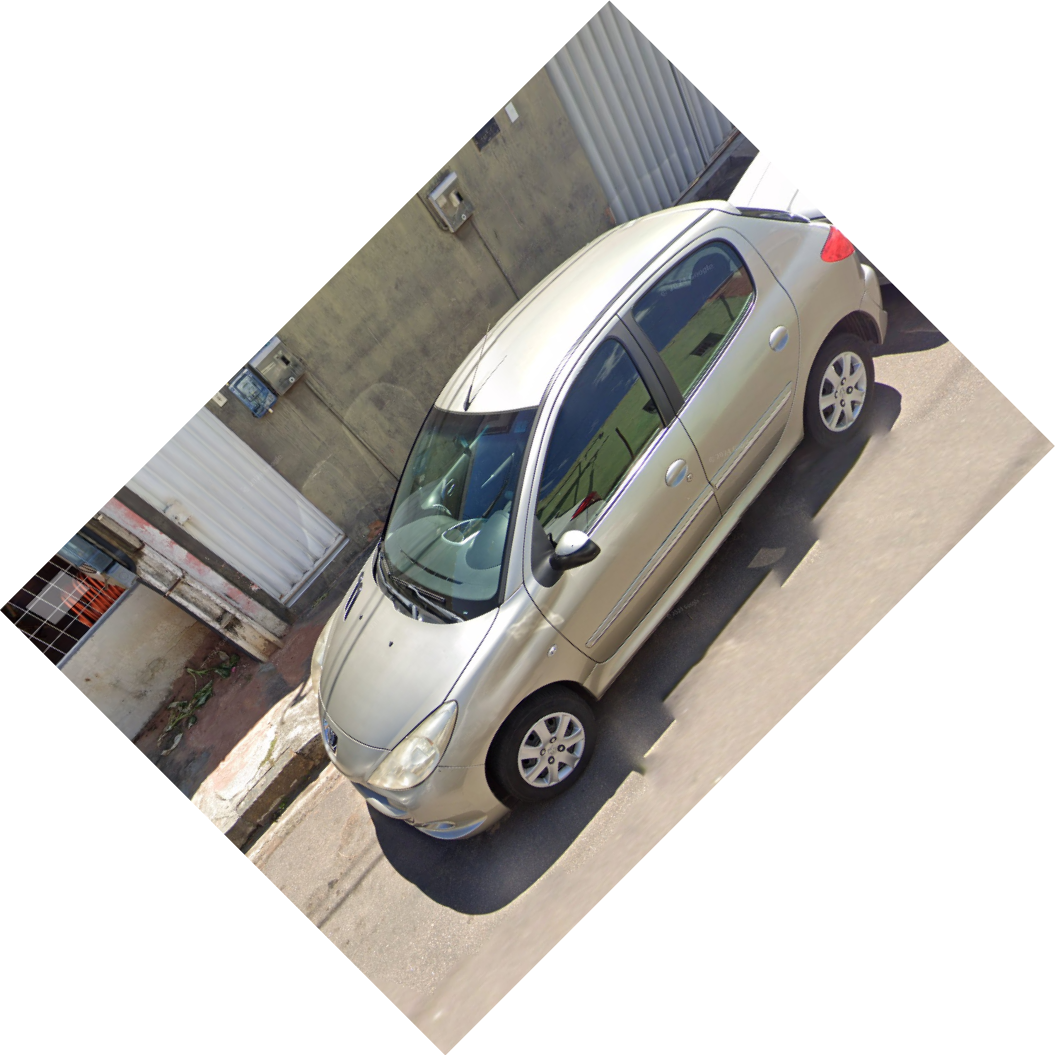car: (306, 181, 883, 848)
